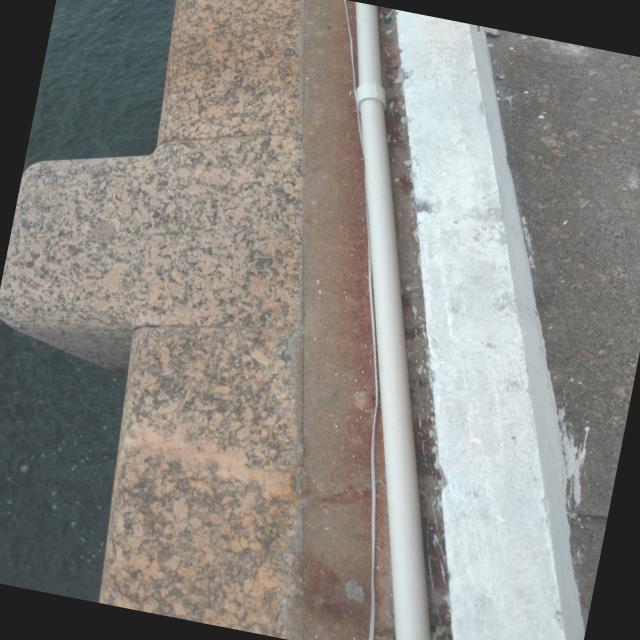gas: (355, 5, 429, 640)
